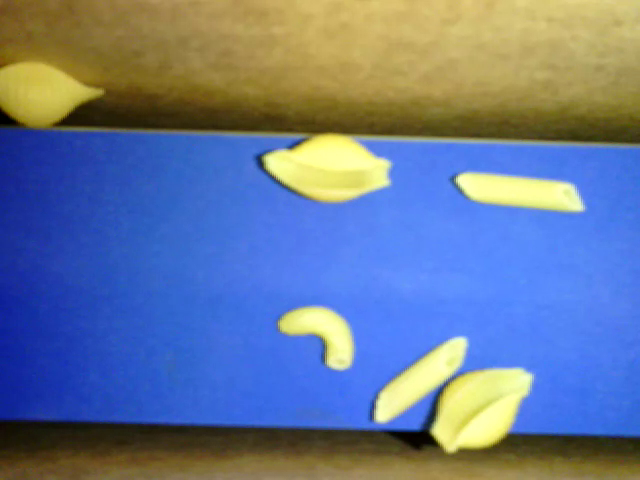elbow: (277, 305, 355, 370)
penne: (373, 335, 468, 425), (455, 169, 583, 212)
shell: (261, 132, 390, 204), (430, 367, 534, 453), (1, 61, 105, 128)
